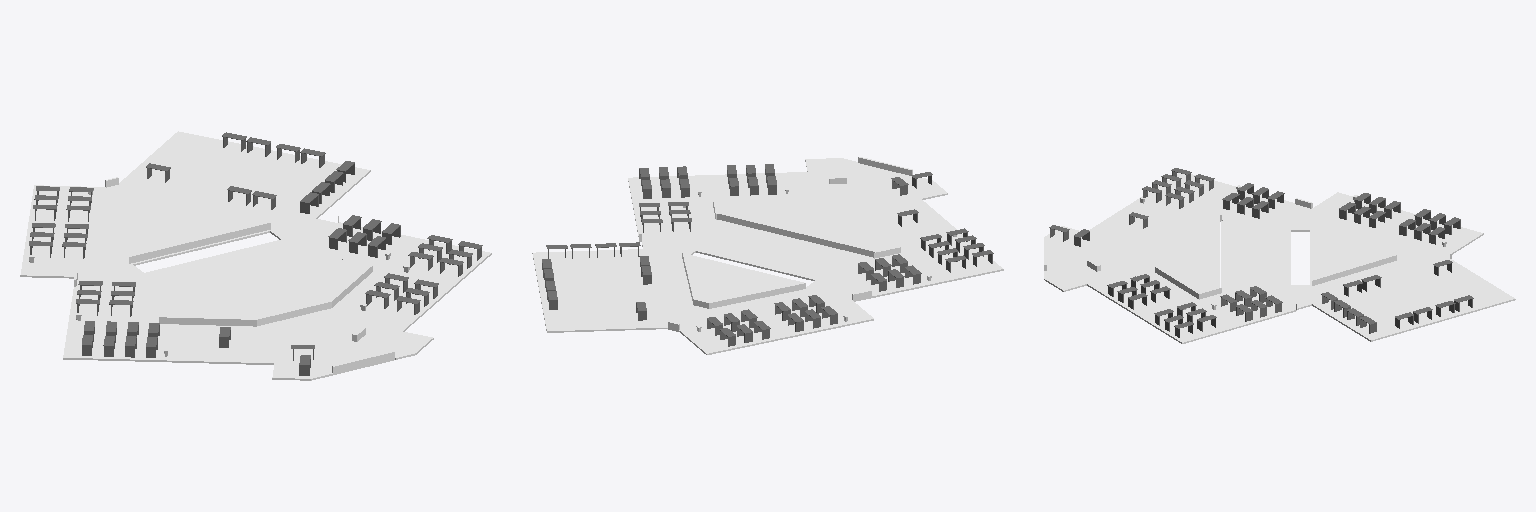
robot.urdf — Plano_obstaculos:
<?xml version="1.0" encoding="utf-8"?>
<!-- This URDF was automatically created by SolidWorks to URDF Exporter! Originally created by [author] ([email redacted]) 
     Commit Version: 1.5.1-0-g916b5db  Build Version: 1.5.7152.31018
     For more information, please see http://wiki.ros.org/sw_urdf_exporter -->
<robot
  name="Plano_obstaculos">
<gazebo reference="Escritorios"> <material>Gazebo/Black</material> </gazebo>
<gazebo reference="Sillas"> <material>Gazebo/DarkGrey</material> </gazebo>
<gazebo reference="Paredes"> <material>Gazebo/Gold</material> </gazebo>
<gazebo reference="Plano"> <material>Gazebo/WoodFloor</material> </gazebo>
  <link
    name="Plano">
    <inertial>
      <origin
        xyz="-8.38540782137692 -17.8815394750934 0.154428901029084"
        rpy="0 0 0" />
      <mass
        value="105645.565151975" />
      <inertia
        ixx="4345955.21245055"
        ixy="-517599.704326117"
        ixz="3.39690702689487E-11"
        iyy="3034038.417064"
        iyz="2.65740069840661E-10"
        izz="7377512.10802731" />
    </inertial>
    <visual>
      <origin
        xyz="0 0 0"
        rpy="0 0 0" />
      <geometry>
        <mesh
          filename="package://Plano_obstaculos/meshes/Plano.STL" />
      </geometry>
      <material
        name="">
        <color
          rgba="1 1 1 1" />
      </material>
    </visual>
    <collision>
      <origin
        xyz="0 0 0"
        rpy="0 0 0" />
      <geometry>
        <mesh
          filename="package://Plano_obstaculos/meshes/Plano.STL" />
      </geometry>
    </collision>
  </link>
  <link
    name="Paredes">
    <inertial>
      <origin
        xyz="-8.33486592764714 1.62 17.2787605001807"
        rpy="0 0 0" />
      <mass
        value="106998.234725186" />
      <inertia
        ixx="1884398.41780361"
        ixy="8.90828232618565E-11"
        ixz="-46224.2076186336"
        iyy="2975088.21442711"
        iyz="1.65001071170947E-10"
        izz="1251187.14871118" />
    </inertial>
    <visual>
      <origin
        xyz="0 0 0"
        rpy="0 0 0" />
      <geometry>
        <mesh
          filename="package://Plano_obstaculos/meshes/Paredes.STL" />
      </geometry>
      <material
        name="">
        <color
          rgba="0.792156862745098 0.819607843137255 0.933333333333333 1" />
      </material>
    </visual>
    <collision>
      <origin
        xyz="0 0 0"
        rpy="0 0 0" />
      <geometry>
        <mesh
          filename="package://Plano_obstaculos/meshes/Paredes.STL" />
      </geometry>
    </collision>
  </link>
  <joint
    name="paredes"
    type="fixed">
    <origin
      xyz="0 0 0"
      rpy="1.5707963267949 0 0" />
    <parent
      link="Plano" />
    <child
      link="Paredes" />
    <axis
      xyz="0 0 0" />
  </joint>
  <link
    name="Mural">
    <inertial>
      <origin
        xyz="-8.91337374680909 1.62 20.732539789078"
        rpy="0 0 0" />
      <mass
        value="5471.98532264628" />
      <inertia
        ixx="4114.24896446467"
        ixy="-4.16853669587957E-13"
        ixz="1.78227682181781E-13"
        iyy="67436.431005008"
        iyz="-1.12502298066905E-14"
        izz="71530.1600245127" />
    </inertial>
    <visual>
      <origin
        xyz="0 0 0"
        rpy="0 0 0" />
      <geometry>
        <mesh
          filename="package://Plano_obstaculos/meshes/Mural.STL" />
      </geometry>
      <material
        name="">
        <color
          rgba="0.792156862745098 0.819607843137255 0.933333333333333 1" />
      </material>
    </visual>
    <collision>
      <origin
        xyz="0 0 0"
        rpy="0 0 0" />
      <geometry>
        <mesh
          filename="package://Plano_obstaculos/meshes/Mural.STL" />
      </geometry>
    </collision>
  </link>
  <joint
    name="mural"
    type="fixed">
    <origin
      xyz="0 0 0"
      rpy="1.5707963267949 0 0" />
    <parent
      link="Plano" />
    <child
      link="Mural" />
    <axis
      xyz="0 0 0" />
  </joint>
  <link
    name="Escritorios">
    <inertial>
      <origin
        xyz="-10.7074189096146 0.474076989648717 -8.1646668880547"
        rpy="0 0 0" />
      <mass
        value="3550.76795756857" />
      <inertia
        ixx="657.620070679481"
        ixy="-0.0224136843097943"
        ixz="-47.9494436861657"
        iyy="1117.13974257674"
        iyz="-0.113062286977396"
        izz="898.949924210325" />
    </inertial>
    <visual>
      <origin
        xyz="0 0 0"
        rpy="0 0 0" />
      <geometry>
        <mesh
          filename="package://Plano_obstaculos/meshes/Escritorios.STL" />
      </geometry>
      <material
        name="">
        <color
          rgba="0.501960784313725 0.501960784313725 0.501960784313725 1" />
      </material>
    </visual>
    <collision>
      <origin
        xyz="0 0 0"
        rpy="0 0 0" />
      <geometry>
        <mesh
          filename="package://Plano_obstaculos/meshes/Escritorios.STL" />
      </geometry>
    </collision>
  </link>
  <joint
    name="escritorios"
    type="fixed">
    <origin
      xyz="-12.5447567464246 -4.40841503831656 0.120000000000005"
      rpy="1.5707963267949 0 2.55419064663925" />
    <parent
      link="Plano" />
    <child
      link="Escritorios" />
    <axis
      xyz="0 0 0" />
  </joint>
  <link
    name="Botes">
    <inertial>
      <origin
        xyz="-10.2024121833613 0.221862551470592 -2.46960992224205"
        rpy="0 0 0" />
      <mass
        value="153.926715683122" />
      <inertia
        ixx="2.74181939798814"
        ixy="-3.14343449358211E-15"
        ixz="0.0352710984864872"
        iyy="1.75944101800951"
        iyz="-1.55747709055953E-14"
        izz="2.4648494899137" />
    </inertial>
    <visual>
      <origin
        xyz="0 0 0"
        rpy="0 0 0" />
      <geometry>
        <mesh
          filename="package://Plano_obstaculos/meshes/Botes.STL" />
      </geometry>
      <material
        name="">
        <color
          rgba="1 1 1 1" />
      </material>
    </visual>
    <collision>
      <origin
        xyz="0 0 0"
        rpy="0 0 0" />
      <geometry>
        <mesh
          filename="package://Plano_obstaculos/meshes/Botes.STL" />
      </geometry>
    </collision>
  </link>
  <joint
    name="botes"
    type="fixed">
    <origin
      xyz="-17.9717798005568 -26.1510874426371 0.120000000000002"
      rpy="1.5707963267949 0 -2.15819833374566" />
    <parent
      link="Plano" />
    <child
      link="Botes" />
    <axis
      xyz="0 0 0" />
  </joint>
  <link
    name="Sillas">
    <inertial>
      <origin
        xyz="-0.00737317606571875 0.437725988586923 -11.5805190744385"
        rpy="0 0 0" />
      <mass
        value="1450.46121787082" />
      <inertia
        ixx="90.3015487054739"
        ixy="-1.18425607070415"
        ixz="-0.0547897409667648"
        iyy="81.7015687320994"
        iyz="-4.96253730009243"
        izz="90.7106343159438" />
    </inertial>
    <visual>
      <origin
        xyz="0 0 0"
        rpy="0 0 0" />
      <geometry>
        <mesh
          filename="package://Plano_obstaculos/meshes/Sillas.STL" />
      </geometry>
      <material
        name="">
        <color
          rgba="0.250980392156863 0.250980392156863 0.250980392156863 1" />
      </material>
    </visual>
    <collision>
      <origin
        xyz="0 0 0"
        rpy="0 0 0" />
      <geometry>
        <mesh
          filename="package://Plano_obstaculos/meshes/Sillas.STL" />
      </geometry>
    </collision>
  </link>
  <joint
    name="sillas"
    type="fixed">
    <origin
      xyz="-14.6394745785491 -26.5367427727246 0.120000000000002"
      rpy="1.5707963267949 0 -0.602403534081331" />
    <parent
      link="Plano" />
    <child
      link="Sillas" />
    <axis
      xyz="0 0 0" />
  </joint>
</robot>

--- Render facts (derived) ---
3 views of the same robot in one strip: view 1: azimuth 30°, elevation 25°; view 2: azimuth 150°, elevation 25°; view 3: azimuth 270°, elevation 25° (orthographic).
Model Plano_obstaculos with 6 links and 5 joints (5 fixed), rooted at Plano, posed all joints at 0.
Visible links, largest first — view 1: Plano, Escritorios; view 2: Plano, Escritorios; view 3: Plano, Escritorios.
Link boxes in pixels (x1=…): Plano: x1=20, y1=131, x2=491, y2=380; Escritorios: x1=29, y1=132, x2=482, y2=375; Plano: x1=532, y1=157, x2=1003, y2=354; Escritorios: x1=542, y1=164, x2=993, y2=346; Plano: x1=1044, y1=173, x2=1515, y2=343; Escritorios: x1=1049, y1=168, x2=1473, y2=337.
Bounding box of the posed robot: 28.85 × 33.46 × 0.8896 m (x, y, z).
Meshes: 6 distinct files referenced, 3 mesh visuals loaded (3 binary STL); not drawn: 3 (reference not matched to a file when rendering).